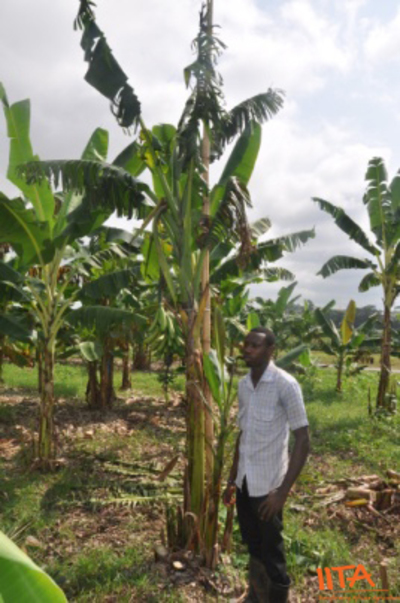bananaHand: (143, 301, 188, 361)
